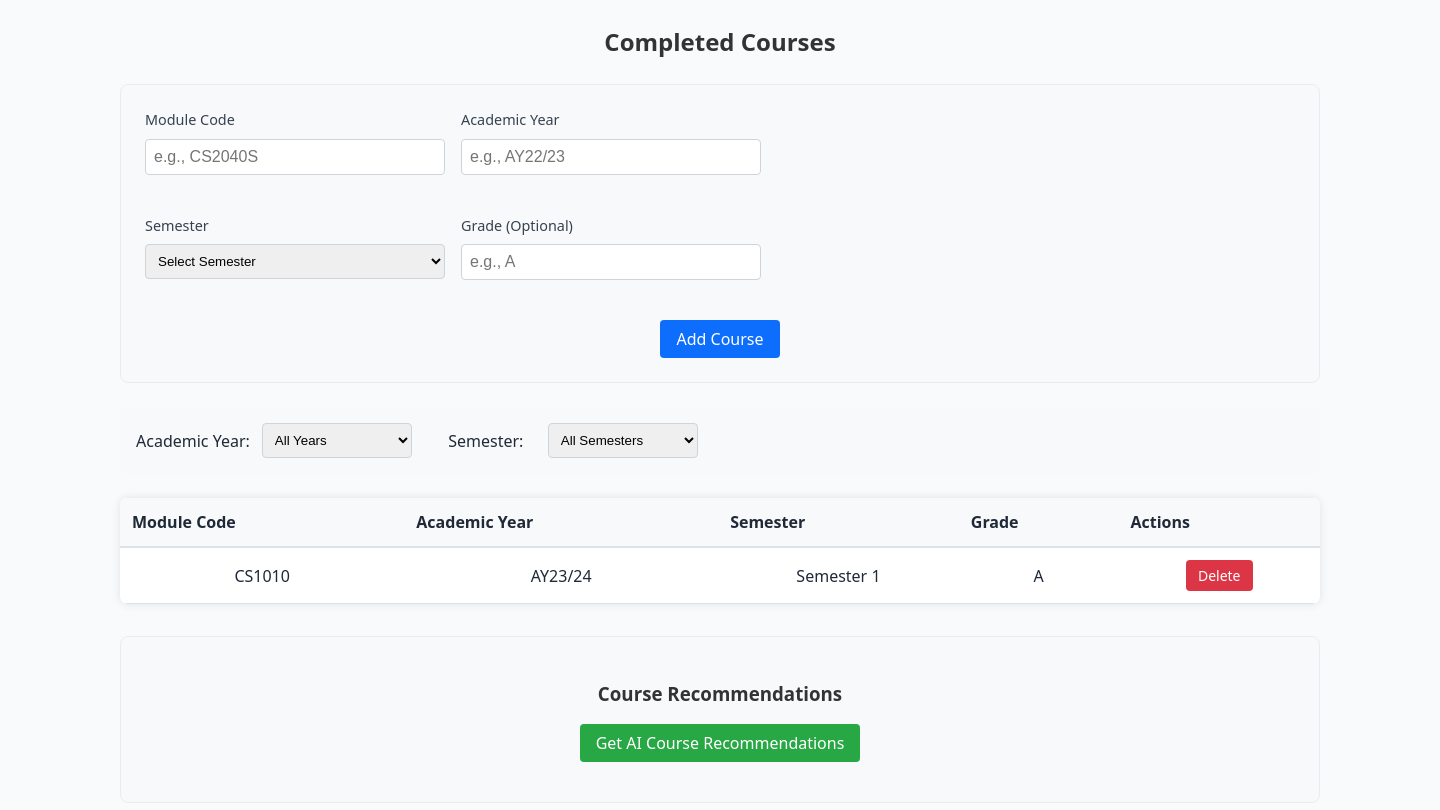
Test: CompletedCourses page › fetches recommendations when button clicked
Expected: the text "CS1010" is shown, [120, 547, 404, 604]
Step 1. Click the button "Get AI Course Recommendations" → (720, 743), box [580, 724, 860, 762]
(page scrolled)
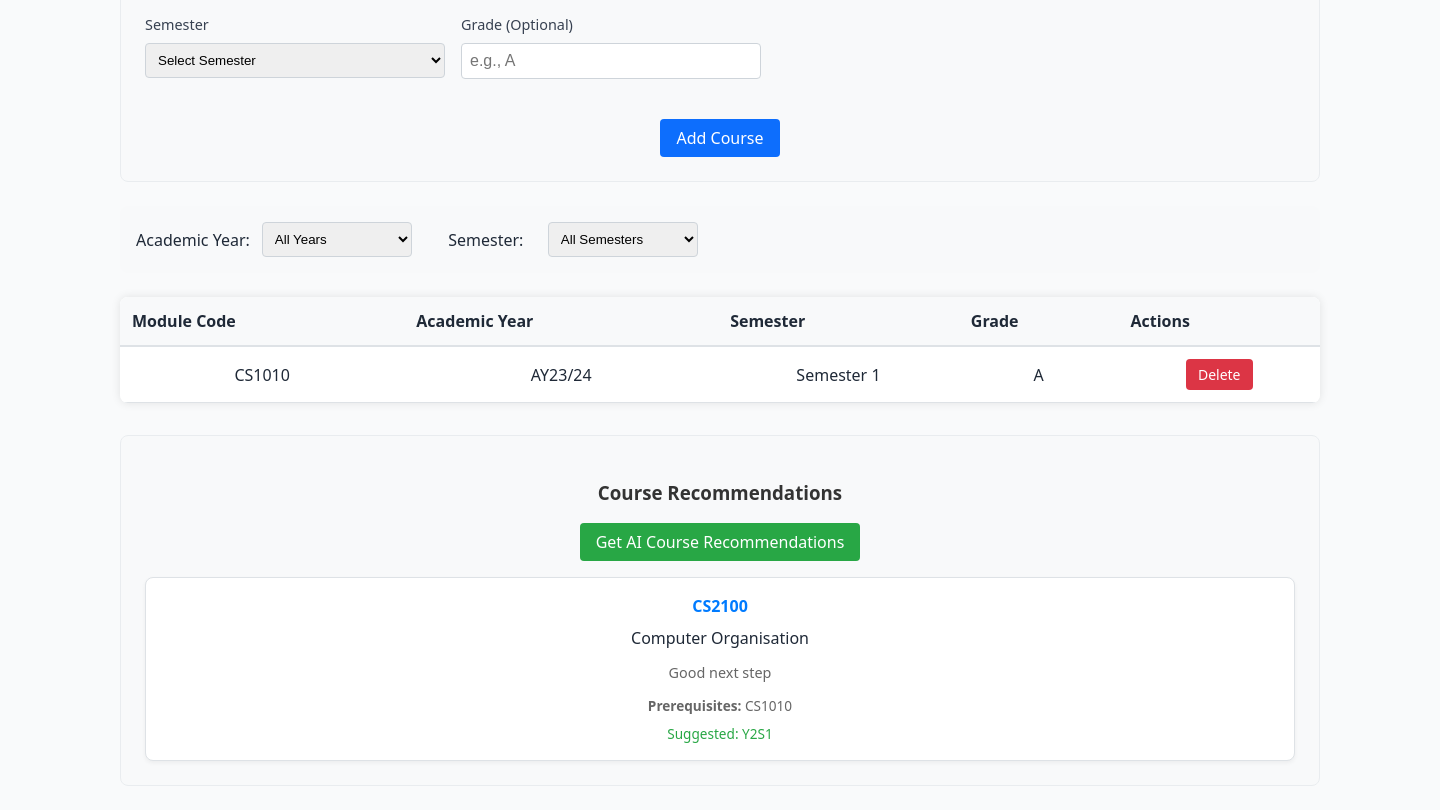
Now the heading "CS2100" is shown, box [692, 595, 748, 617]
Now the text "Computer Organisation" is shown, box [631, 627, 809, 649]
